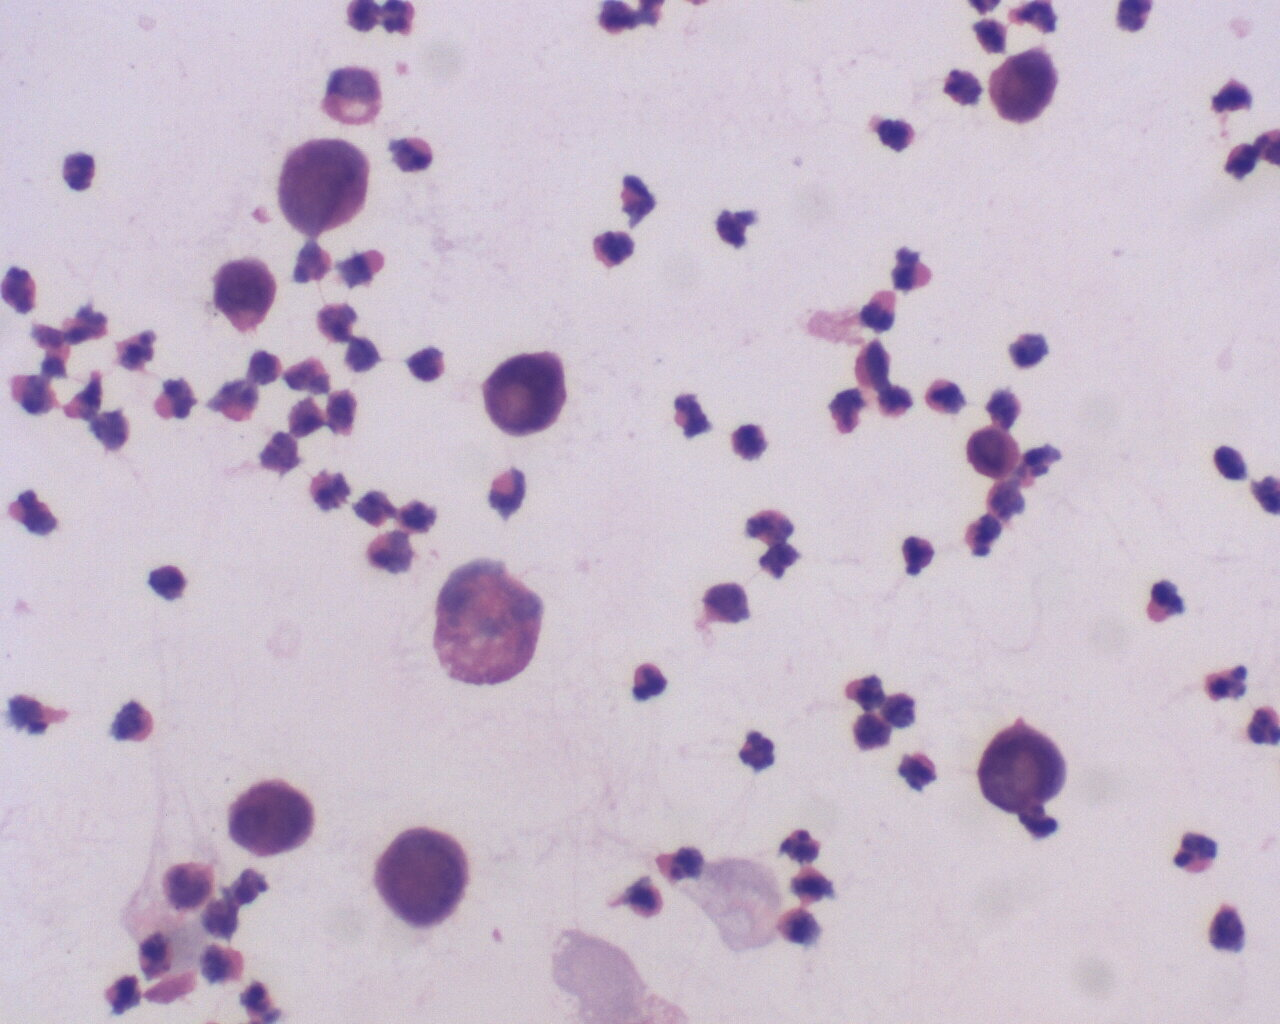ab: (374, 823, 479, 934), (266, 137, 373, 240), (973, 714, 1070, 814), (475, 349, 574, 442), (222, 776, 321, 865), (208, 255, 287, 342), (988, 42, 1064, 129), (965, 424, 1026, 484)
neutro: (1166, 827, 1226, 877), (897, 531, 946, 582), (629, 657, 675, 708), (923, 371, 967, 422)
